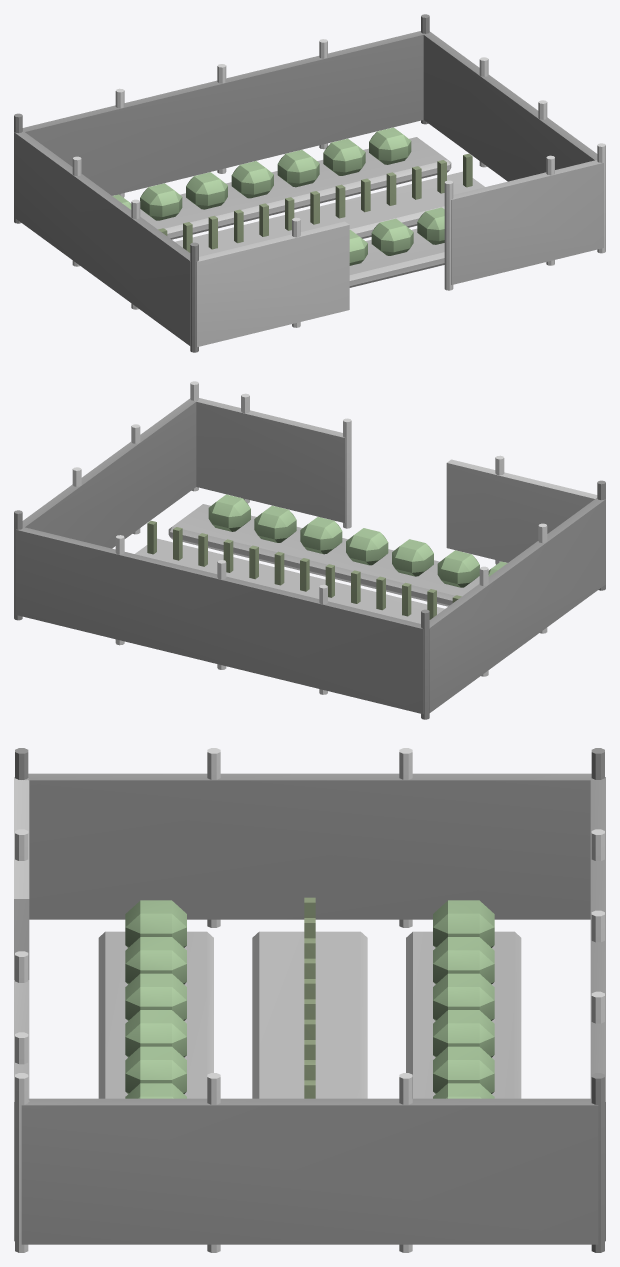
File: garden.glb
3 views of the same model, one above another, from view 1: azimuth 30°, elevation 25°; view 2: azimuth 150°, elevation 25°; view 3: azimuth 270°, elevation 25° (orthographic). The views are drawn at different scales.
Visible parts, largest first — view 1: bed; view 2: bed; view 3: bed.
Part boxes in pixels (bbox=[...]): bed: bbox=[14, 14, 605, 352]; bed: bbox=[14, 381, 605, 719]; bed: bbox=[14, 748, 605, 1252].
Size of the model in its own units: 4.08 by 1 by 3.08.
